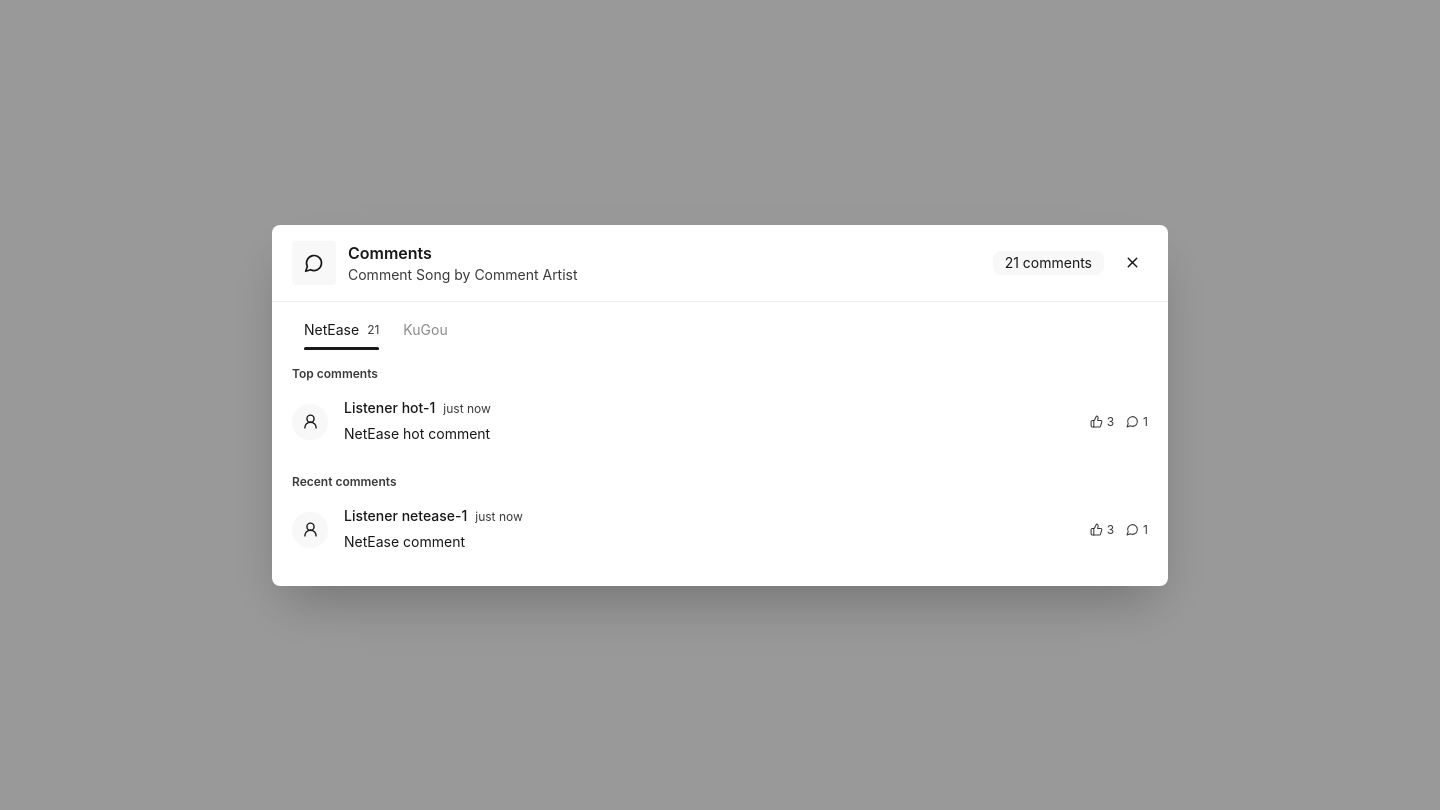
Test: OnlineCommentsDialog › loads the first source and switches providers lazily
expect the heading "Comments" is shown: met, box [348, 242, 432, 262]
Click the tab "KuGou": point(425, 330) [391, 310, 460, 350]
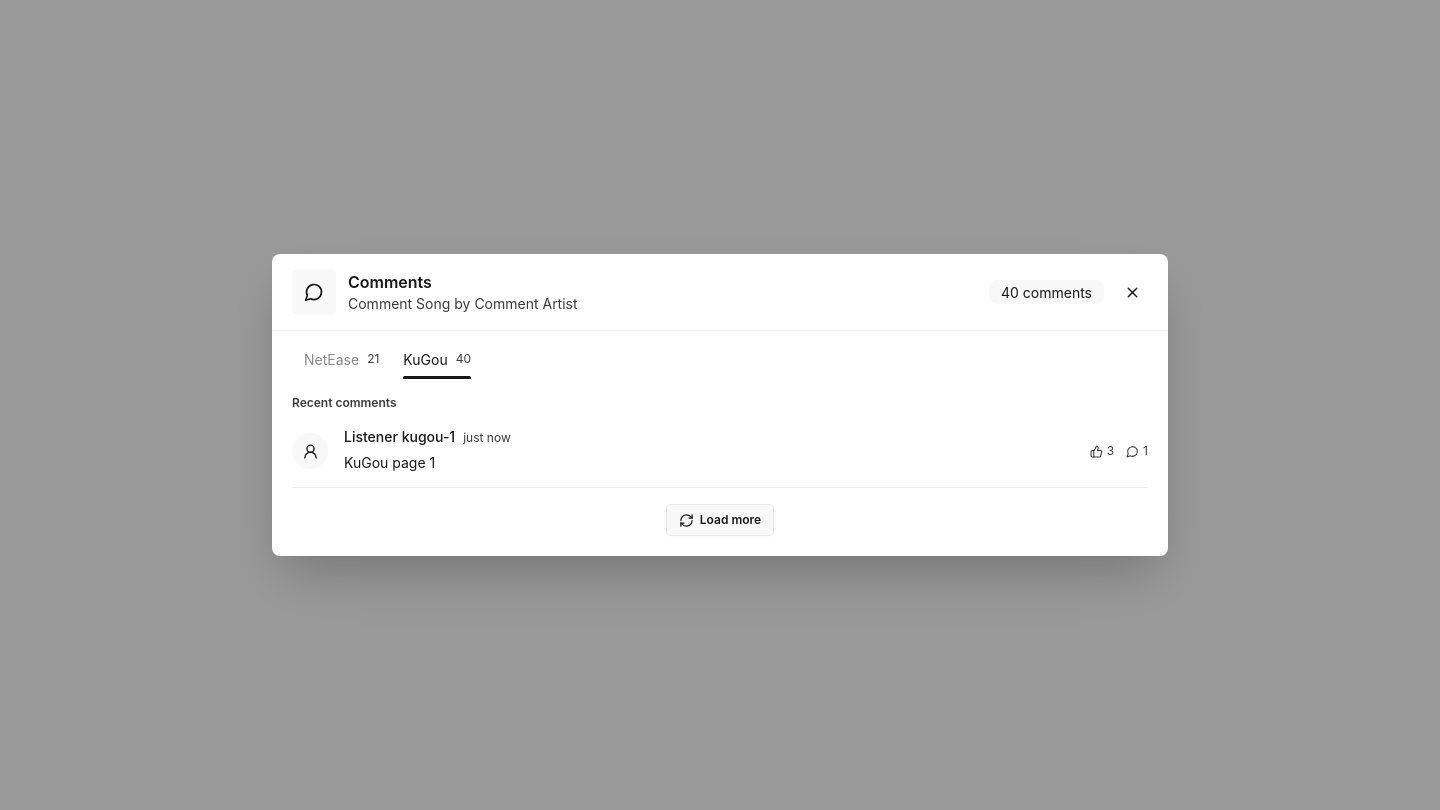
expect the text "KuGou page 1" is shown: met, box [344, 454, 435, 471]
